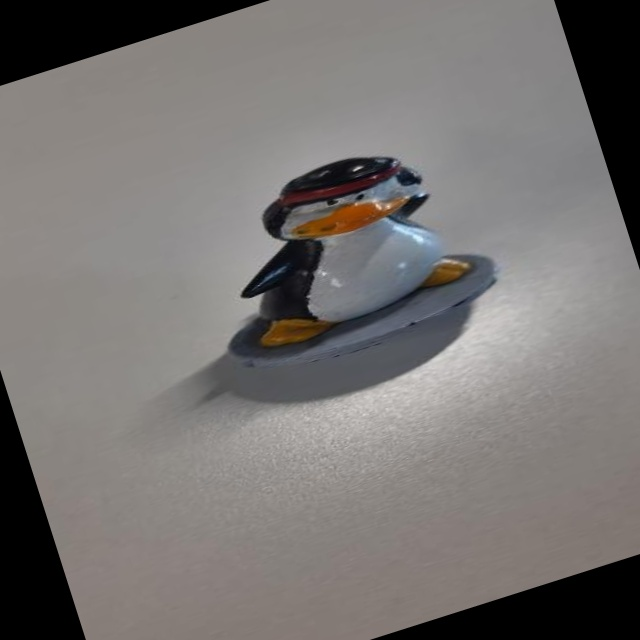Penguin: (146, 114, 525, 401)
